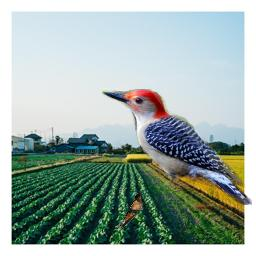Swallow: (115, 193, 144, 230)
Woodpecker: (102, 89, 252, 205)
